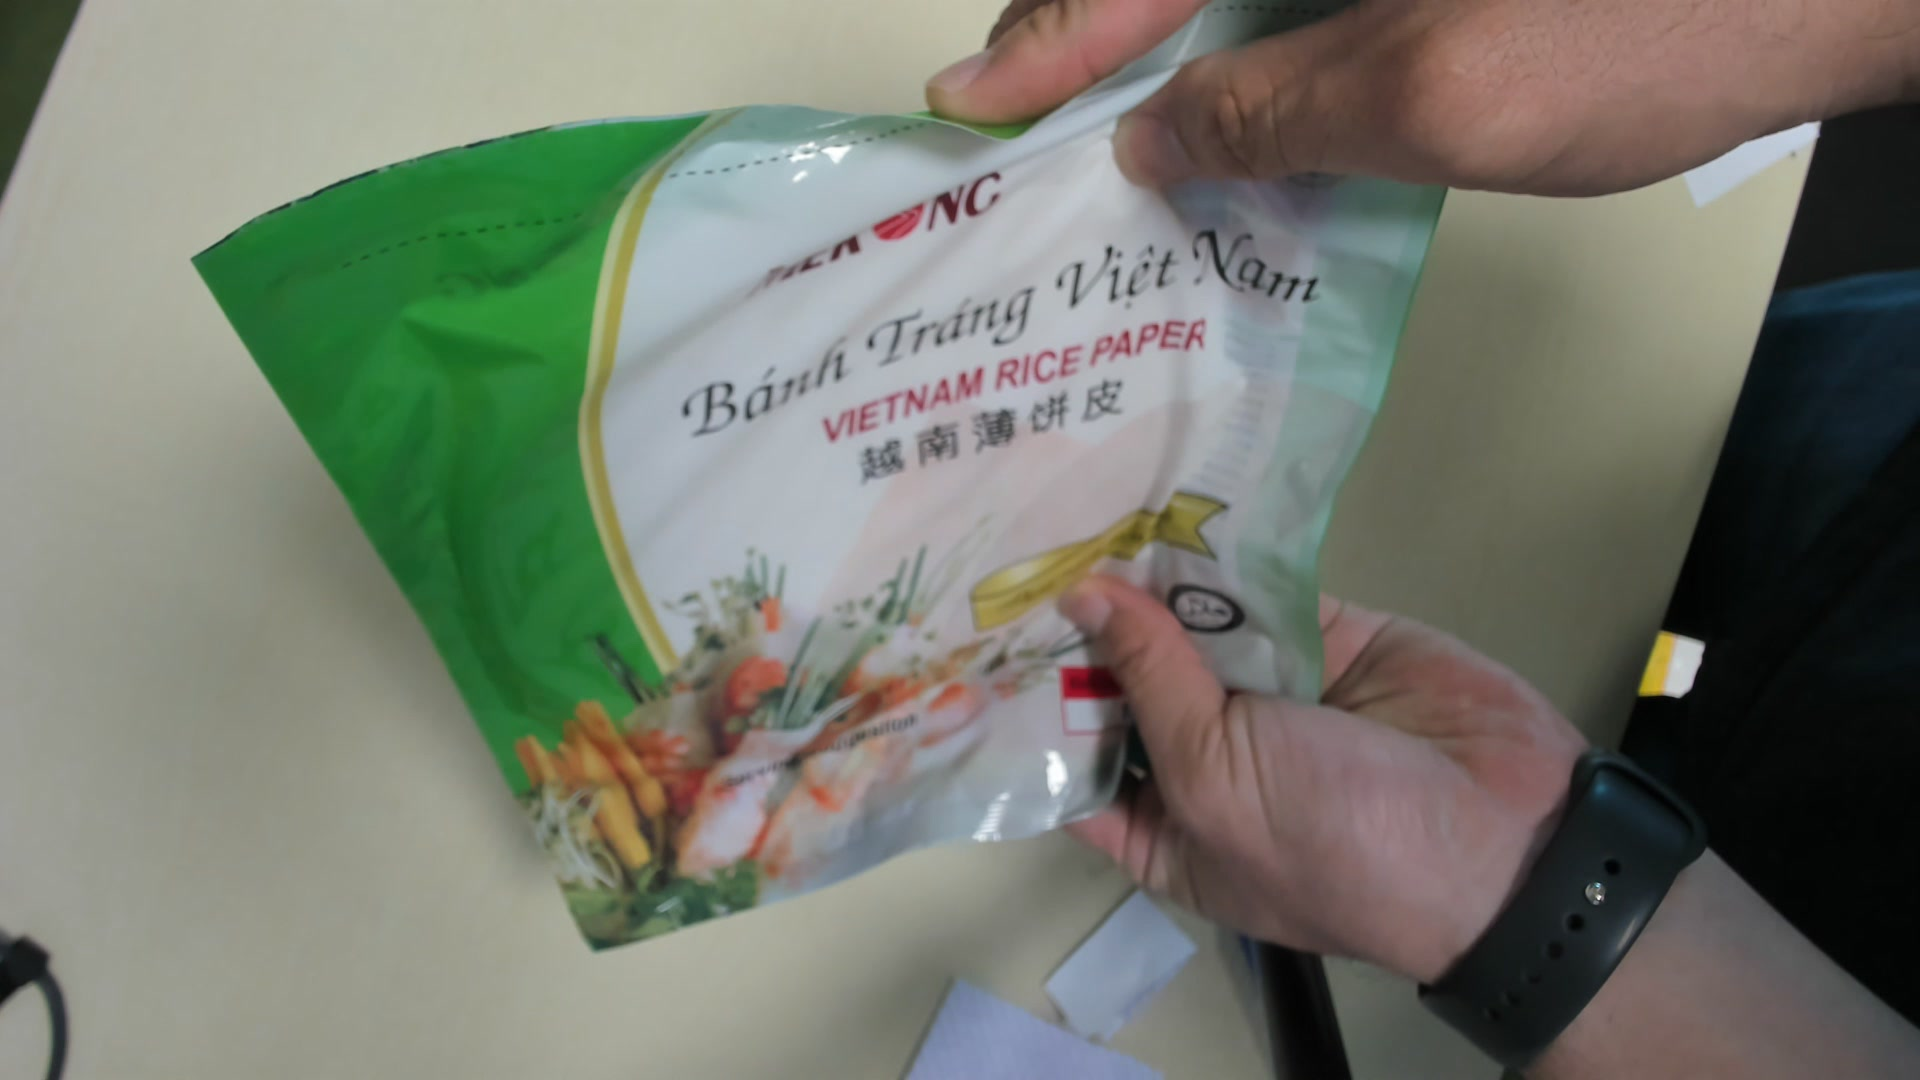InstantMeals_300_399g_NonHalal_NonHealthy: (227, 13, 1440, 948)
